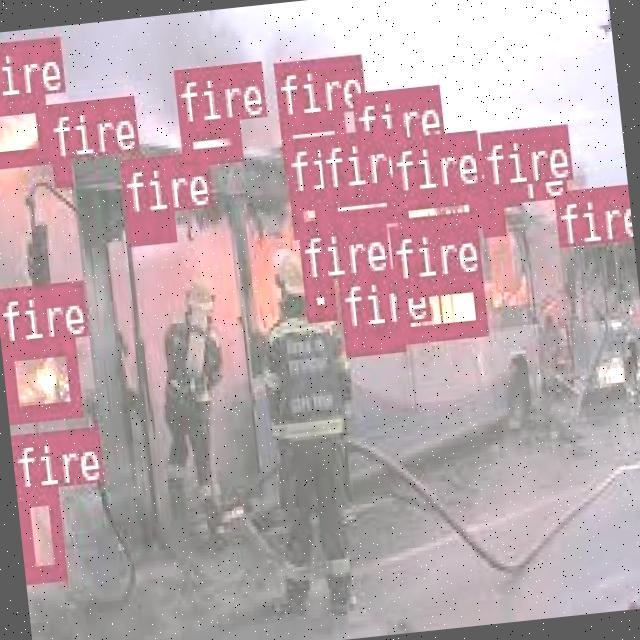fire: (1, 337, 80, 418), (394, 270, 485, 340), (16, 485, 65, 580), (394, 183, 479, 232), (278, 111, 346, 168), (0, 93, 48, 166), (322, 182, 396, 224), (178, 116, 240, 162), (341, 321, 402, 352), (124, 208, 174, 242), (288, 190, 324, 237), (552, 188, 597, 225), (302, 276, 333, 318), (355, 147, 380, 180), (484, 182, 518, 205), (480, 202, 502, 232), (51, 156, 70, 185)
